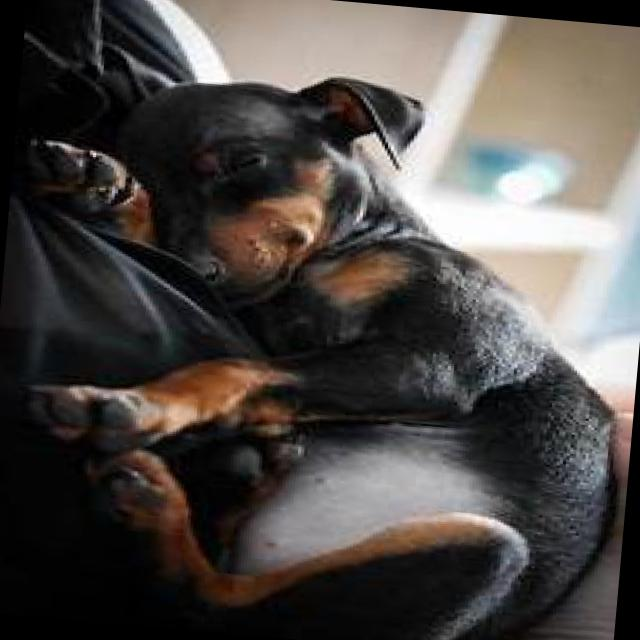animal: (8, 48, 640, 640)
